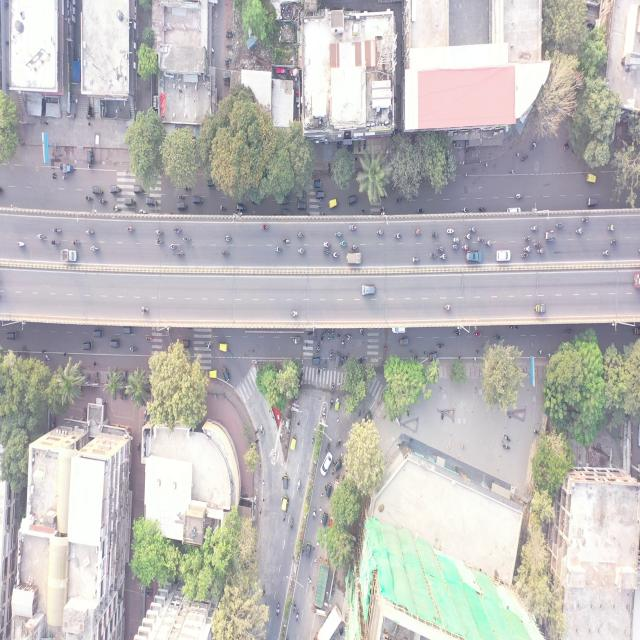3W: (534, 304, 548, 316), (280, 494, 289, 512), (324, 482, 332, 502), (328, 197, 339, 210), (282, 473, 289, 492), (218, 343, 230, 354), (177, 202, 190, 212), (222, 367, 230, 383), (133, 183, 144, 194), (193, 196, 204, 207), (109, 339, 120, 350), (290, 432, 296, 452), (110, 184, 122, 194), (124, 198, 136, 208), (146, 197, 158, 207), (322, 511, 329, 528), (585, 173, 596, 183), (348, 196, 358, 206), (297, 199, 307, 209), (587, 196, 597, 206), (92, 184, 102, 194), (316, 191, 326, 200), (400, 338, 410, 347), (311, 357, 321, 366), (209, 371, 219, 380), (313, 179, 323, 187), (94, 330, 102, 340), (84, 343, 94, 350), (124, 327, 134, 334), (292, 338, 302, 344)
Cars: (466, 251, 483, 264), (361, 282, 376, 294), (496, 253, 512, 262), (543, 231, 555, 240)
LCV: (61, 248, 76, 262), (62, 162, 74, 173)
M2W: (172, 224, 183, 234), (90, 244, 100, 254), (139, 304, 149, 314), (128, 344, 138, 354), (70, 238, 82, 246), (225, 232, 233, 244), (274, 600, 280, 616), (84, 227, 94, 236), (126, 225, 136, 234), (154, 228, 164, 237), (168, 241, 177, 251), (609, 237, 619, 246), (203, 340, 212, 350), (519, 251, 530, 259), (434, 341, 446, 348), (259, 422, 266, 434), (411, 256, 420, 265), (16, 240, 26, 248), (113, 203, 121, 213), (348, 223, 358, 231), (348, 243, 358, 251), (476, 235, 486, 243), (574, 227, 584, 235), (579, 216, 589, 224), (336, 437, 342, 450), (50, 226, 61, 233), (49, 239, 60, 246), (530, 141, 537, 152), (221, 249, 229, 258), (296, 230, 304, 239), (282, 236, 291, 244), (460, 204, 468, 213), (393, 196, 402, 204), (493, 334, 502, 342), (452, 330, 461, 338), (326, 328, 332, 340), (601, 248, 610, 256), (533, 238, 541, 247), (537, 246, 545, 255), (443, 303, 451, 312), (146, 335, 154, 344), (98, 197, 108, 204), (415, 207, 425, 214), (289, 516, 294, 530), (521, 153, 528, 163), (324, 441, 330, 452), (155, 236, 163, 244), (340, 240, 348, 248), (394, 232, 402, 240), (430, 230, 438, 238), (446, 228, 454, 236), (436, 243, 444, 251), (428, 252, 436, 260), (439, 253, 447, 261), (462, 231, 470, 239), (607, 225, 615, 233), (515, 192, 523, 200), (182, 235, 191, 242), (177, 248, 184, 257), (296, 247, 305, 254), (321, 248, 330, 255), (331, 250, 338, 259), (413, 230, 422, 237), (469, 226, 478, 233), (478, 203, 485, 212), (530, 225, 539, 232), (36, 234, 46, 240), (296, 608, 301, 620), (275, 245, 282, 253), (322, 241, 330, 248), (335, 230, 343, 237), (290, 308, 297, 316), (556, 221, 563, 229), (523, 234, 531, 241), (525, 243, 532, 251), (292, 599, 296, 613), (451, 242, 458, 250), (296, 480, 301, 491), (319, 330, 324, 341), (412, 353, 421, 359), (312, 506, 316, 519), (85, 194, 93, 200), (262, 224, 268, 232), (376, 229, 384, 235), (358, 328, 366, 334), (331, 382, 335, 394), (329, 397, 333, 409), (329, 348, 333, 359), (486, 239, 492, 246), (341, 336, 344, 350), (323, 360, 327, 370), (316, 344, 320, 354), (462, 243, 468, 249), (346, 333, 352, 338), (302, 545, 305, 555), (454, 237, 459, 242)
